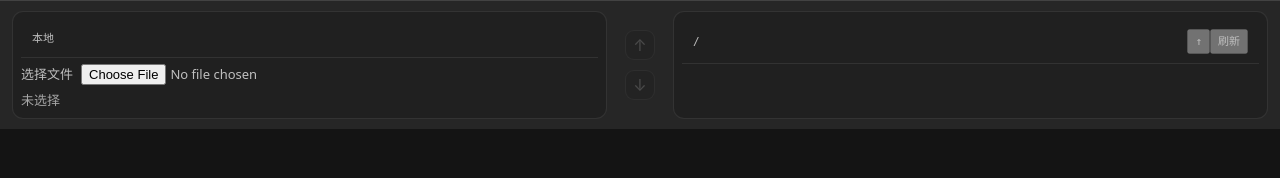
Scenario: The two-tree FileBrowser › the remote entries are listed
Click the button with test id "remote-refresh" at (1229, 42), box left=1210, top=29, right=1248, bottom=54
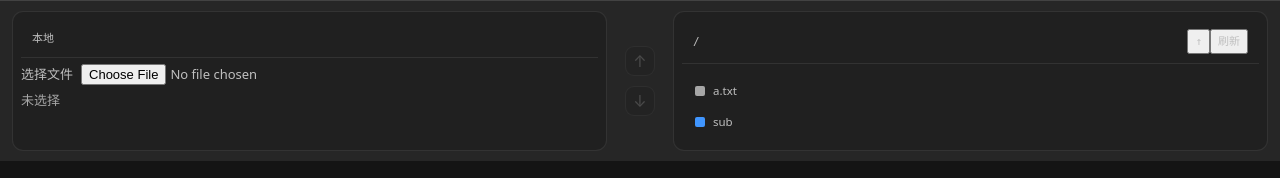
Expected: the button "a.txt" is shown, left=687, top=75, right=1254, bottom=106
Expected: the button "sub" is shown, left=687, top=106, right=1254, bottom=137
